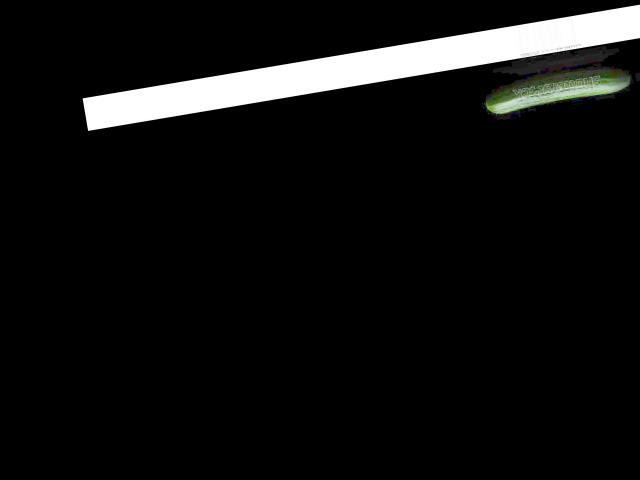cucumber: (482, 69, 631, 115)
